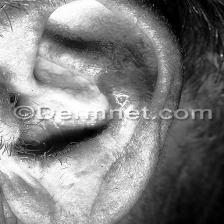Benign Marking or Mole: (90, 74, 142, 107)
